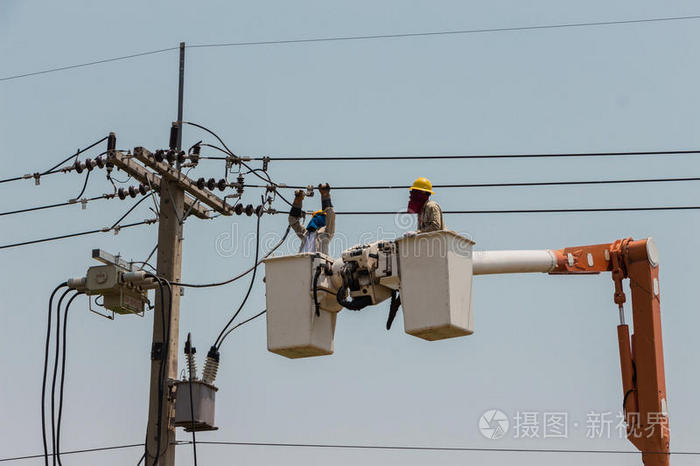insulator: (74, 155, 105, 176), (118, 181, 149, 201), (195, 175, 226, 193), (234, 201, 267, 217), (152, 147, 187, 162)
